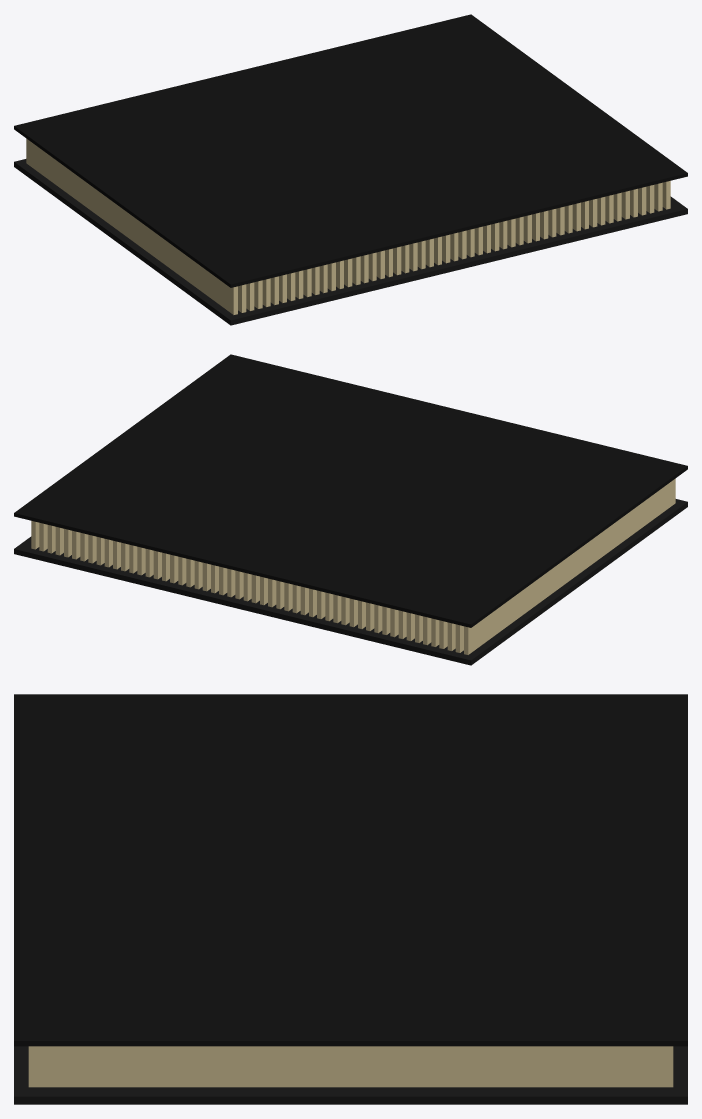
Rendered from air-filter.glb.
3 views of the same model, one above another, from view 1: azimuth 30°, elevation 25°; view 2: azimuth 150°, elevation 25°; view 3: azimuth 270°, elevation 25° (orthographic). The views are drawn at different scales.
Visible parts, largest first — view 1: air-filter:rubber, air-filter:filterPaper, air-filter:blackPlastic; view 2: air-filter:rubber, air-filter:filterPaper, air-filter:blackPlastic; view 3: air-filter:rubber, air-filter:filterPaper, air-filter:blackPlastic.
Part boxes in pixels (x1,y1,x2,y2): air-filter:rubber: (14, 14, 687, 287); air-filter:filterPaper: (26, 138, 670, 314); air-filter:blackPlastic: (14, 159, 687, 325); air-filter:rubber: (14, 354, 687, 627); air-filter:filterPaper: (31, 478, 675, 654); air-filter:blackPlastic: (14, 499, 687, 665); air-filter:rubber: (14, 694, 687, 1046); air-filter:filterPaper: (28, 1046, 673, 1087); air-filter:blackPlastic: (14, 1046, 687, 1104).
Bounding box in the file's own units: 280 × 24.01 × 230.
